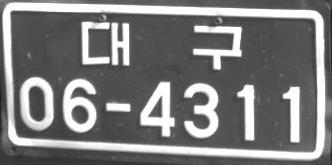0: (16, 75, 54, 131)
1: (277, 84, 310, 143), (230, 84, 263, 141)
3: (183, 81, 218, 139)
4: (139, 80, 175, 137)
6: (62, 77, 96, 134)
대구_D: (79, 19, 242, 70)
